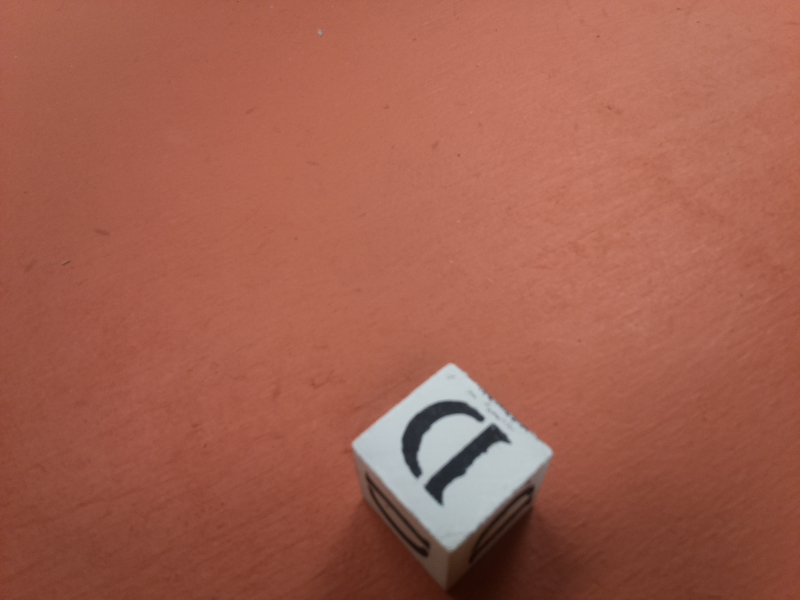blockD: (348, 360, 554, 588)
